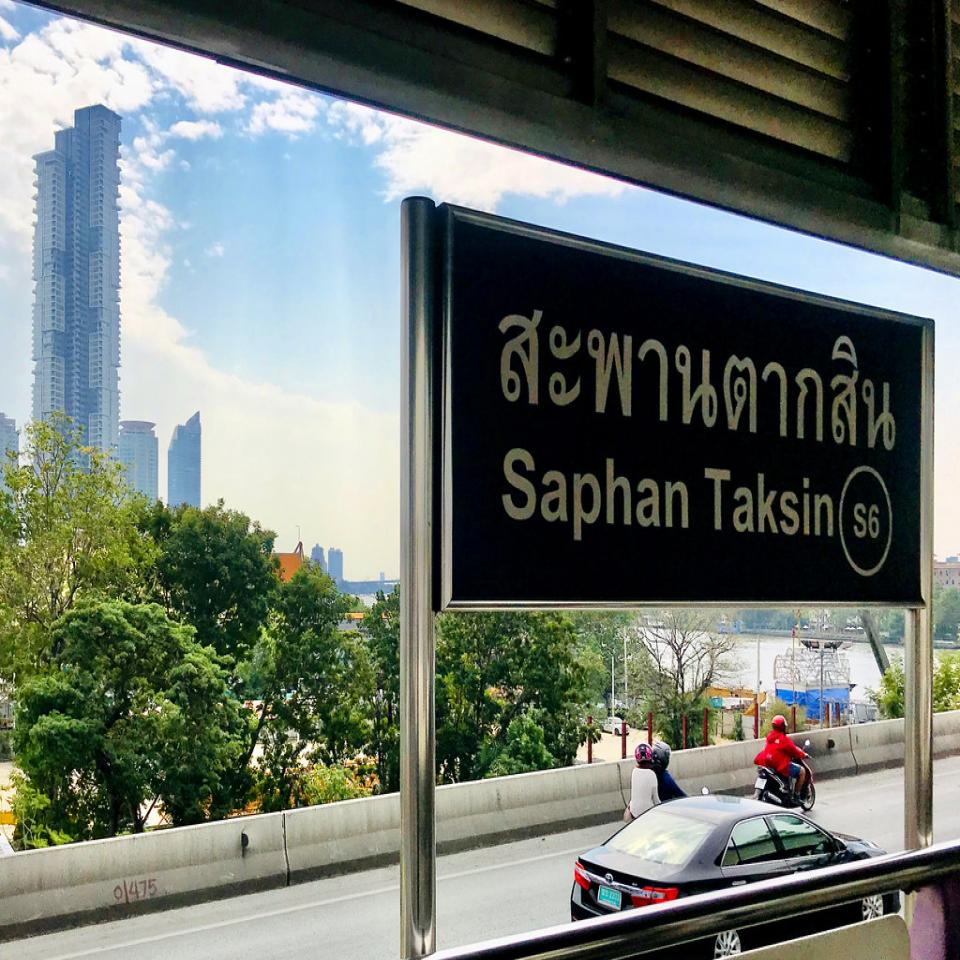Saphan Taksin: (436, 201, 930, 615)
